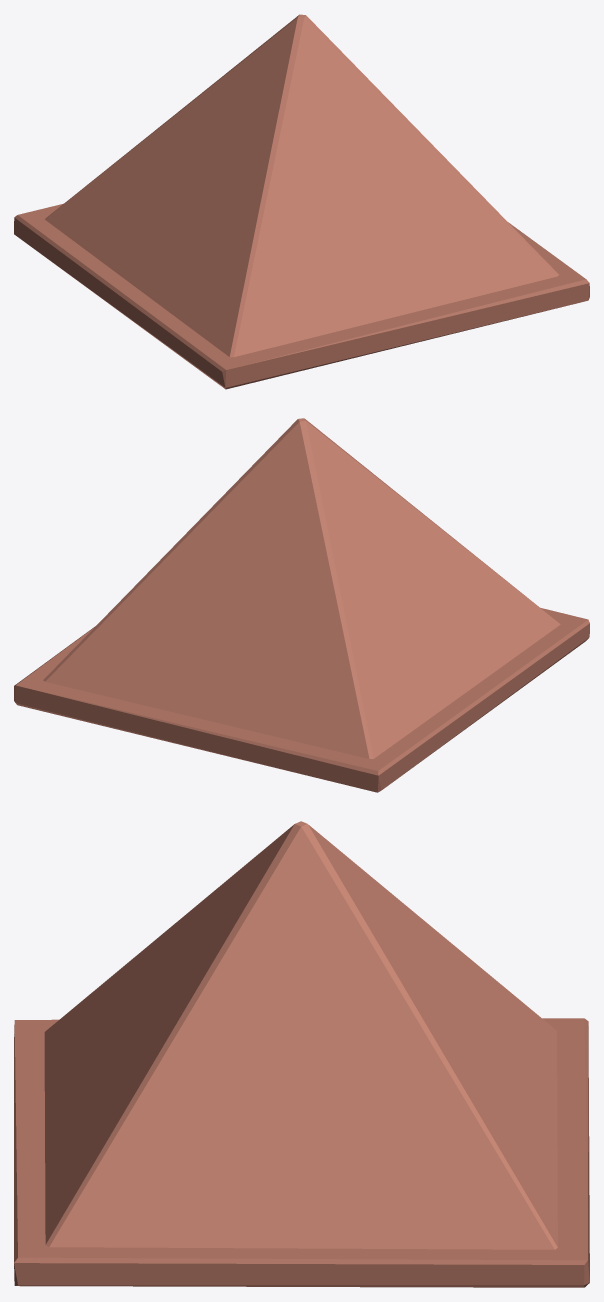
File: struct_roof_hip.glb
3 views of the same model, one above another, from view 1: azimuth 30°, elevation 25°; view 2: azimuth 150°, elevation 25°; view 3: azimuth 270°, elevation 25° (orthographic). The views are drawn at different scales.
Parts seen in each view (by area): view 1: struct_roof_hip; view 2: struct_roof_hip; view 3: struct_roof_hip.
Part boxes in pixels (bbox=[...]): struct_roof_hip: bbox=[14, 14, 589, 389]; struct_roof_hip: bbox=[14, 418, 589, 792]; struct_roof_hip: bbox=[14, 821, 589, 1287].
Size of the model in its own units: 1.04 by 0.684 by 1.04.
